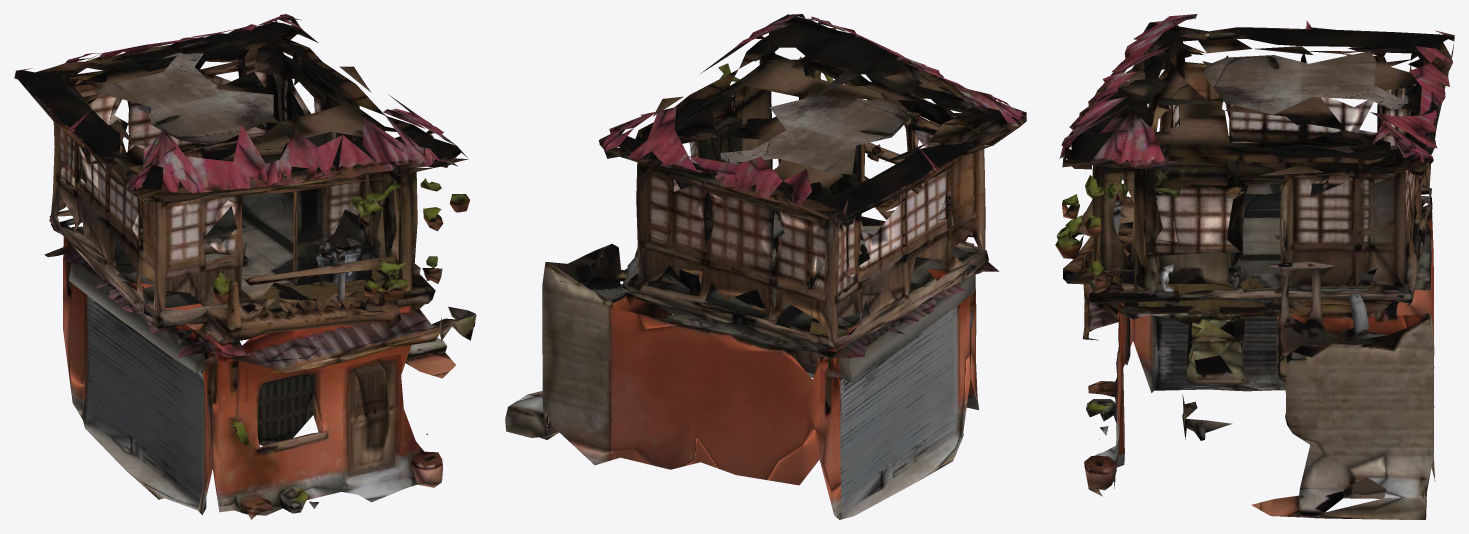
File: two-storey-house.glb
The picture shows the model from 3 angles, left to right: view 1: azimuth 30°, elevation 25°; view 2: azimuth 150°, elevation 25°; view 3: azimuth 270°, elevation 25°; orthographic projection.
Parts seen in each view (by area): view 1: geometry_0; view 2: geometry_0; view 3: geometry_0.
Boxes of the visible parts, <box> form: geometry_0: <box>14,14,476,519</box>; geometry_0: <box>505,14,1026,519</box>; geometry_0: <box>1055,14,1454,519</box>.
Size of the model in its own units: 1.06 by 0.9766 by 0.9451.
Materials: 1 (1 with a texture image).
